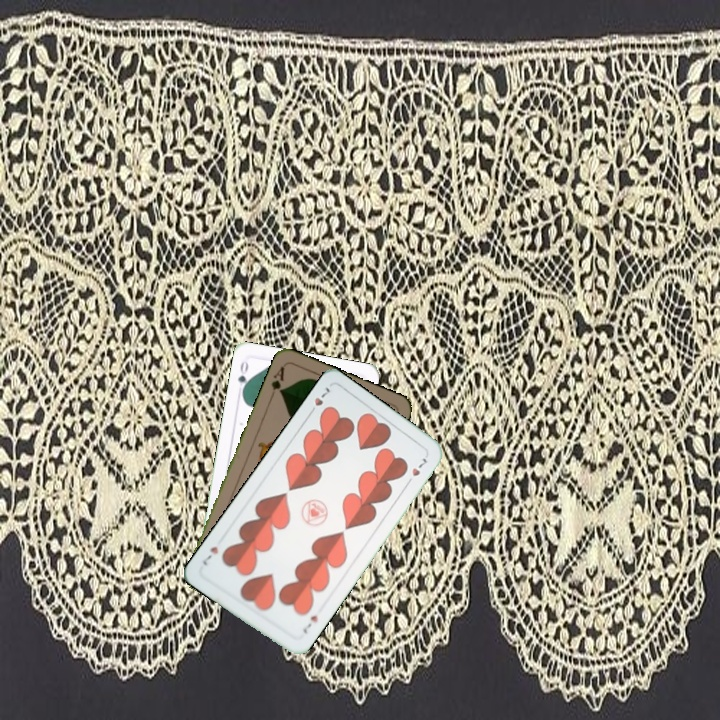GA: (267, 362, 287, 401)
GO: (234, 357, 252, 397)
H7: (305, 383, 332, 418), (298, 611, 321, 636)
